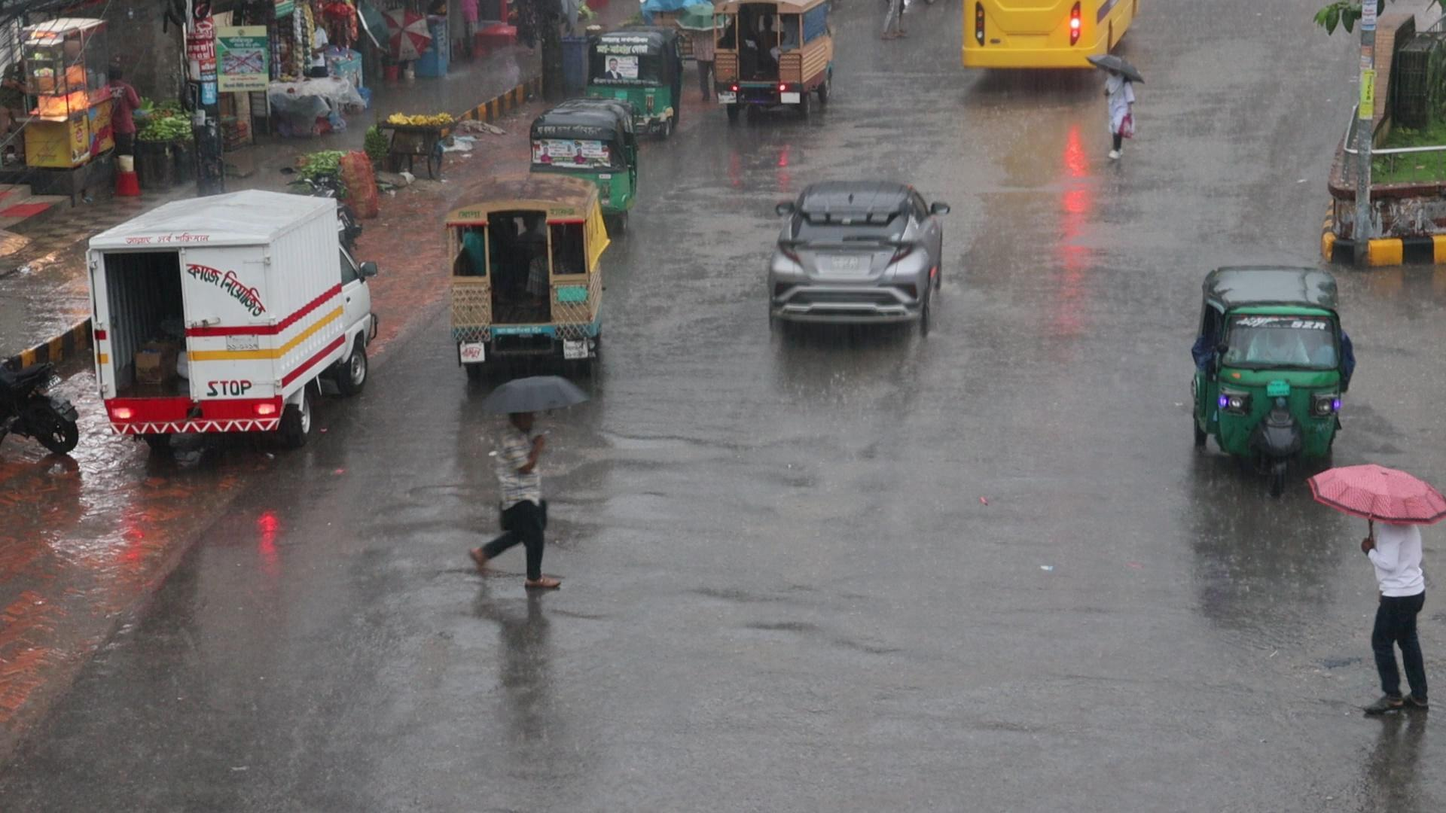Car: (767, 178, 950, 336)
Truck: (443, 170, 607, 377), (711, 1, 836, 115)
